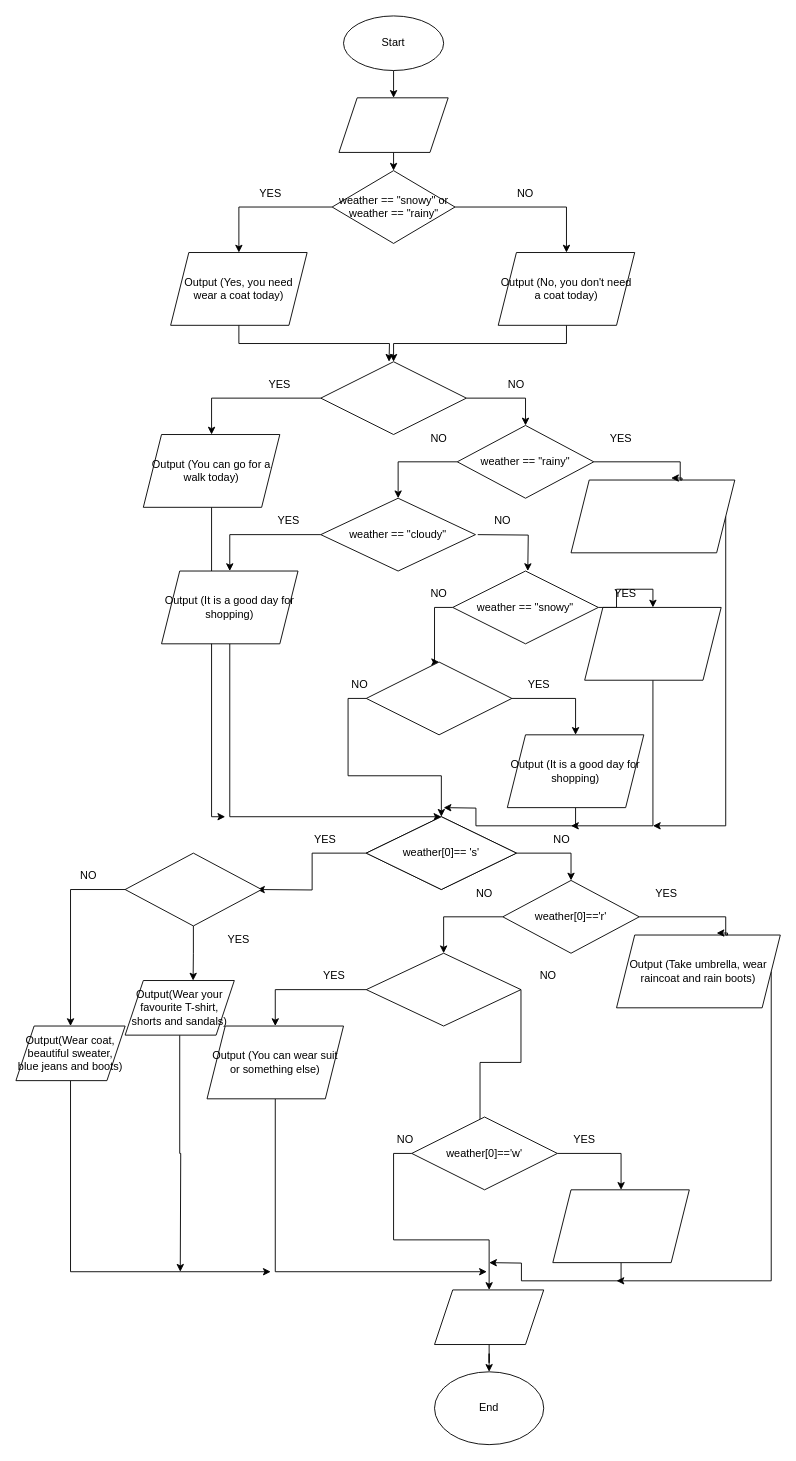
The diagram is 796 pixels wide and 1461 high, and some of its shapes have lost their labels. Here are the shapes that lost their labels. From the top down, the box of each, then its label:
(338, 97, 448, 152): Input Weather
(320, 361, 466, 435): weather == "sunny"
(570, 479, 735, 553): Output (You can learn how to write a program or watch films)
(584, 607, 721, 680): Output (It is a bad idea to go out )
(365, 661, 512, 735): weather == "windy"
(124, 852, 262, 926): weather == "sunny
(365, 952, 521, 1026): weather[0]=='c'
(552, 1189, 689, 1263): Output (Wear something warm )
(434, 1289, 544, 1345): Output(This weather are not in list)
